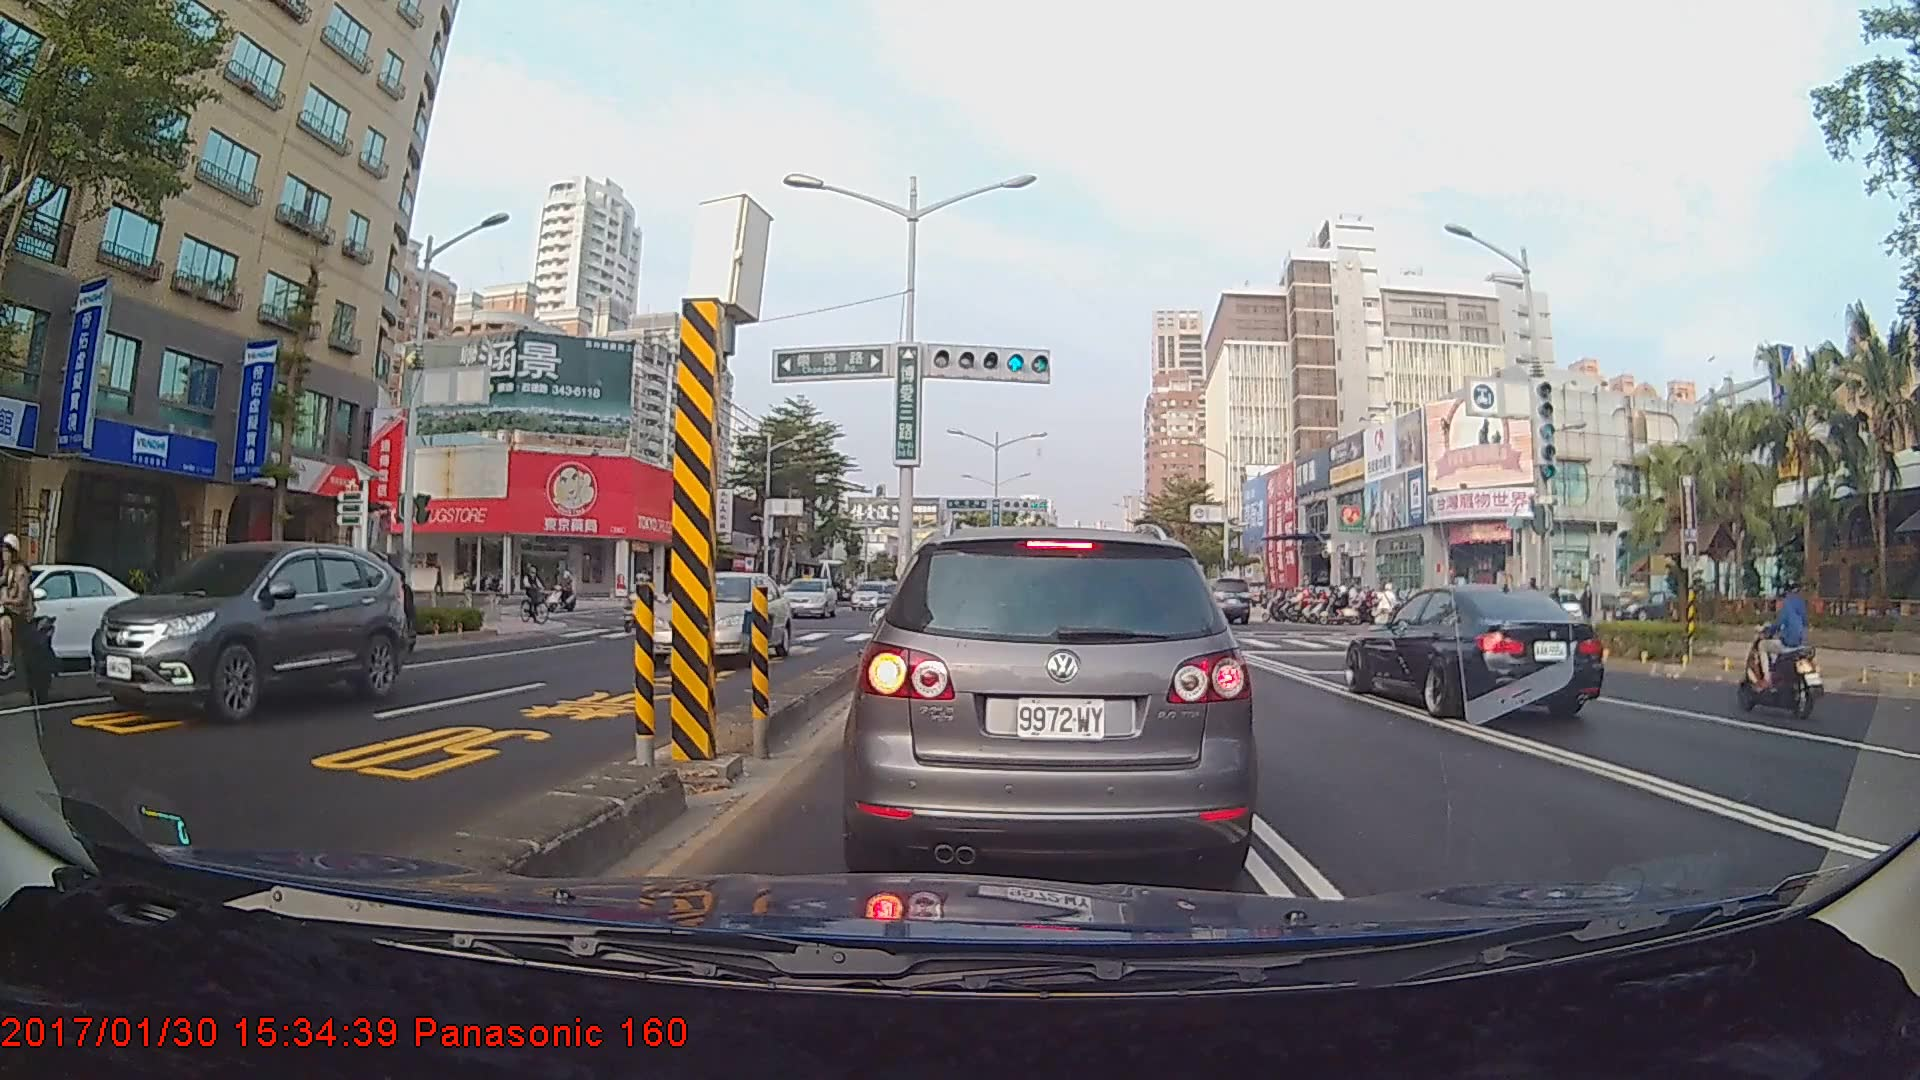rider: (1738, 571, 1830, 720), (1, 528, 60, 708), (355, 563, 425, 659), (518, 559, 561, 629), (1368, 582, 1403, 640), (547, 570, 581, 614)
vehicle: (852, 522, 1254, 882), (97, 538, 411, 716), (1342, 581, 1604, 717), (0, 561, 157, 671), (640, 569, 793, 668), (775, 576, 838, 619), (1202, 575, 1249, 626)
